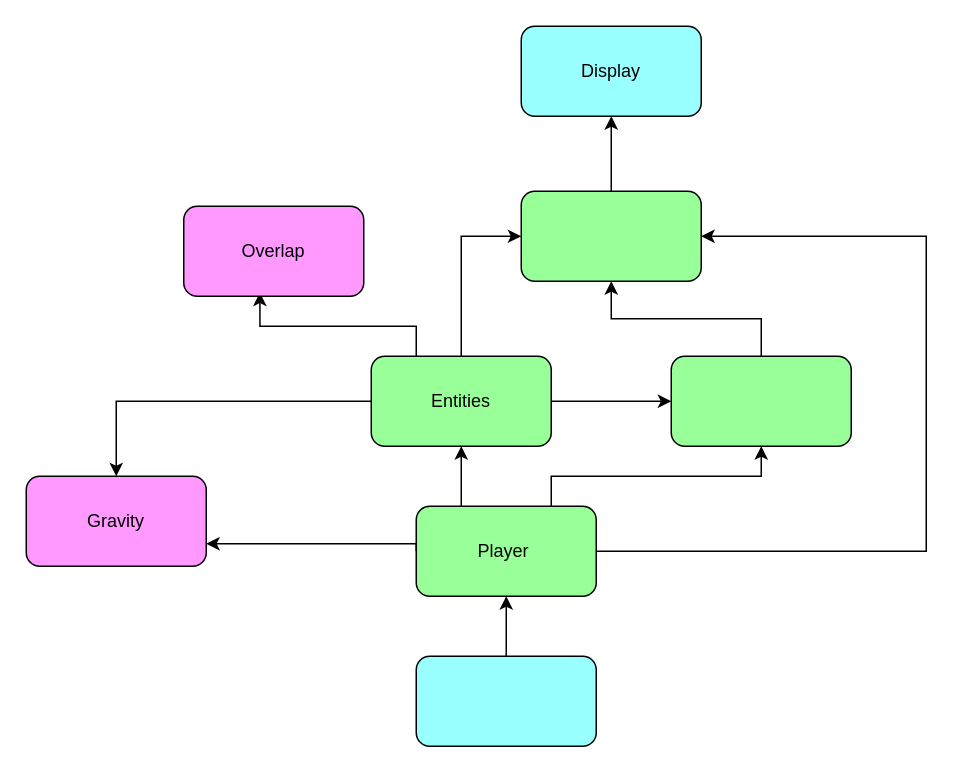
The diagram is 965 pixels wide and 773 high, and some of its shapes have lost their labels. Each missing label, with the box of its shape:
Game Level: (670, 355, 851, 446)
Game State: (520, 190, 701, 281)
Input Controls: (415, 655, 596, 746)
